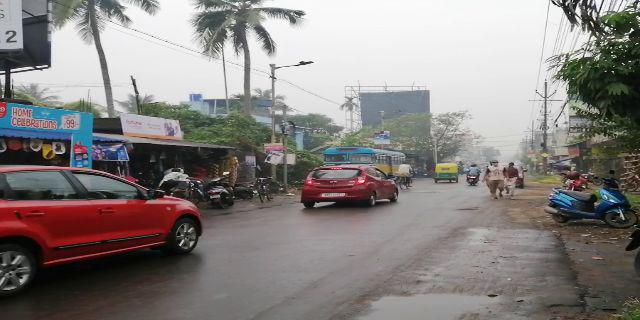Autorickshaw: (431, 161, 464, 186)
Car: (1, 166, 200, 275), (302, 166, 402, 209)
Motorbike: (466, 163, 480, 189)
